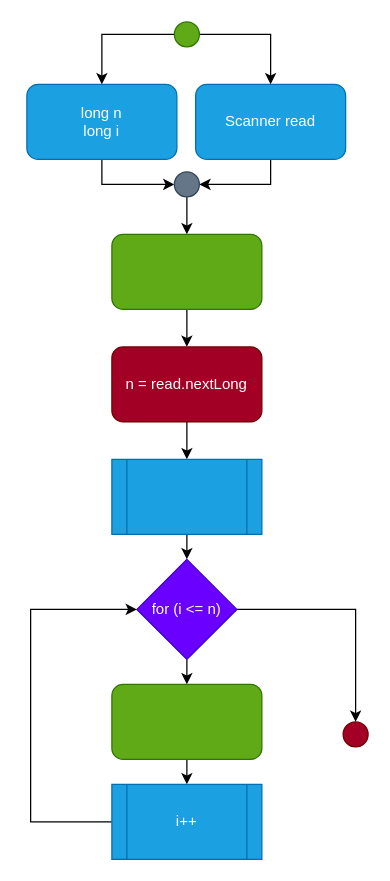
This 390x881 diagram has some shape labels left out. Here are the shapes that lost their labels. From the top down, the box of each, then its label:
(111, 233, 262, 309): out (Introduce un numero hasta donde contar: )
(111, 458, 262, 534): i = 1
(111, 683, 262, 759): out (i)
